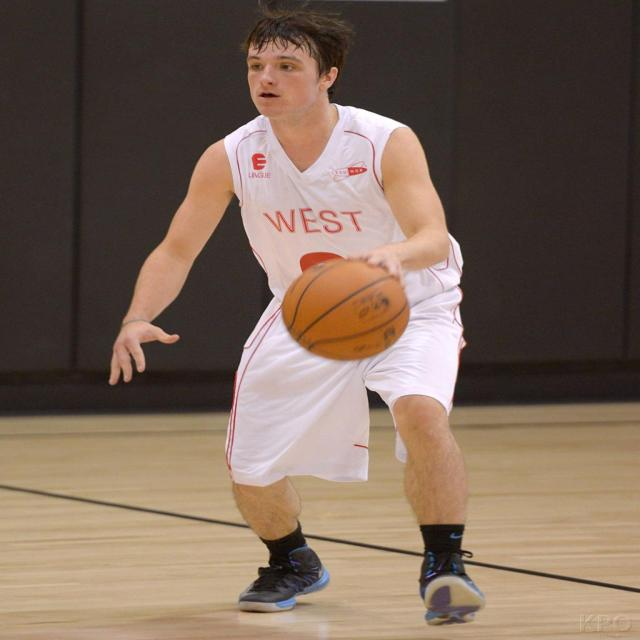Face: (242, 29, 346, 132)
